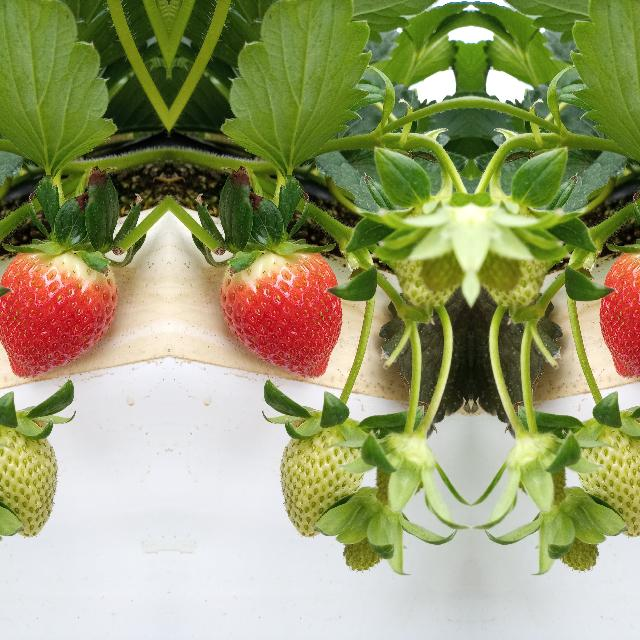Health_100: (218, 250, 342, 378), (0, 249, 118, 378), (599, 249, 640, 378)
Health_25: (286, 399, 370, 536), (570, 399, 640, 536), (0, 399, 50, 536)
